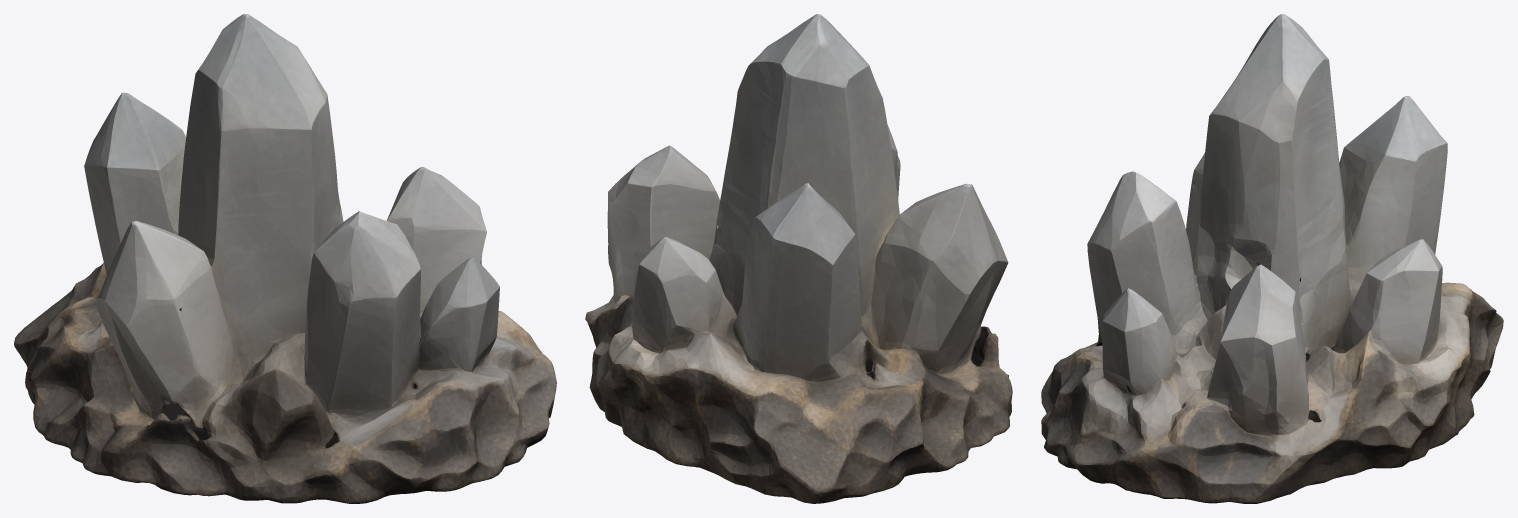
3 views of the same model, side by side, from view 1: azimuth 30°, elevation 25°; view 2: azimuth 150°, elevation 25°; view 3: azimuth 270°, elevation 25° (orthographic). The views are drawn at different scales.
Visible parts, largest first — view 1: world; view 2: world; view 3: world.
Boxes of the visible parts, left/top/right/bottom form: world: left=14, top=14, right=556, bottom=503; world: left=585, top=14, right=1012, bottom=503; world: left=1041, top=14, right=1503, bottom=503.
Size of the model in its own units: 0.9919 by 0.9132 by 0.9999.
Materials: 1 (1 with a texture image).
